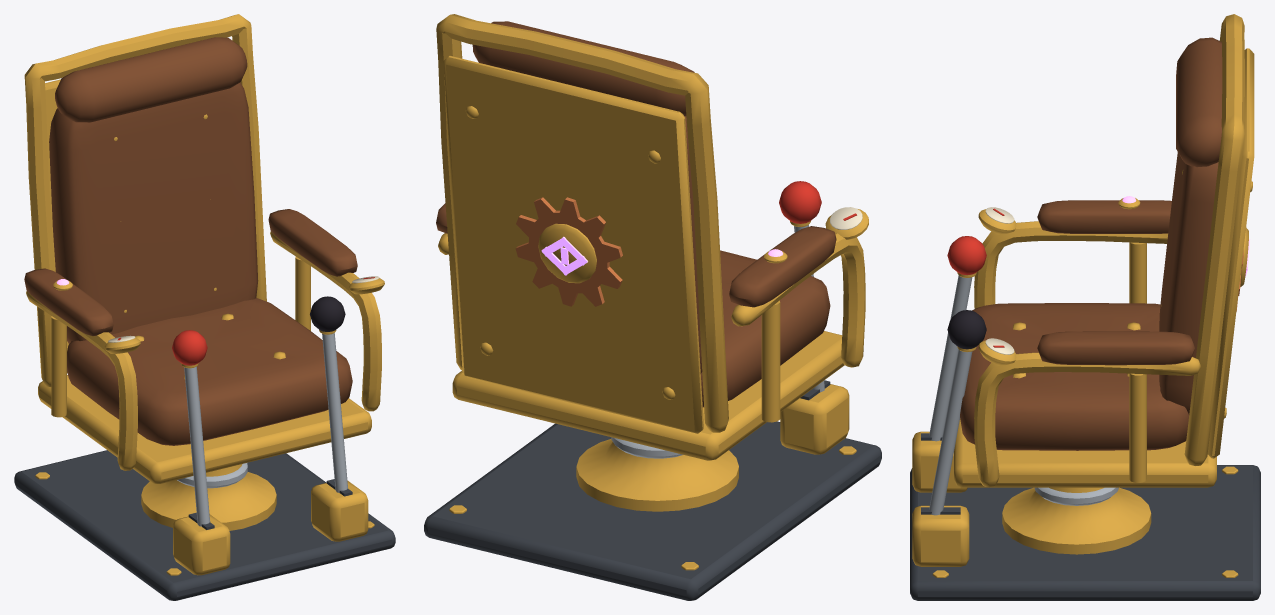
The model's file is part_seat.glb.
3 renders of one model, left to right at view 1: azimuth 30°, elevation 25°; view 2: azimuth 150°, elevation 25°; view 3: azimuth 270°, elevation 25°, orthographic. The views are drawn at different scales.
Visible parts, largest first — view 1: Seat; view 2: Seat; view 3: Seat.
Boxes of the visible parts, left/top/right/bottom form: Seat: left=14, top=14, right=395, bottom=600; Seat: left=424, top=14, right=881, bottom=600; Seat: left=910, top=14, right=1260, bottom=600.
Size of the model in its own units: 0.8 by 1.2 by 0.8.
